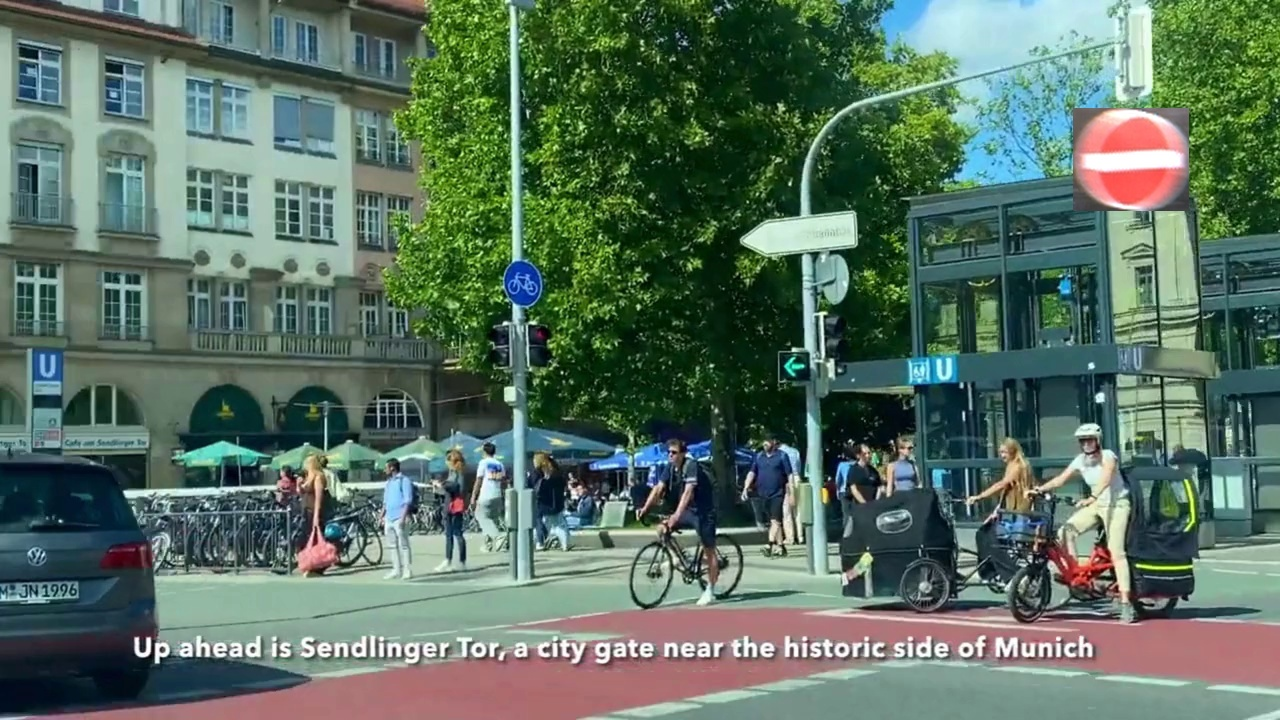No entry: (1073, 108, 1189, 211)
